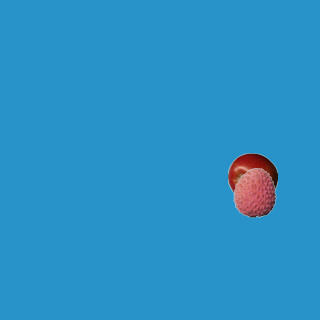Apple Braeburn: (227, 152, 277, 202)
Lychee: (229, 167, 279, 217)
